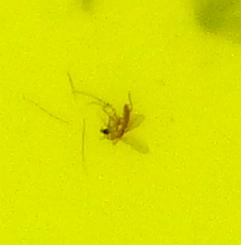Nematocera: (100, 100, 141, 145)
